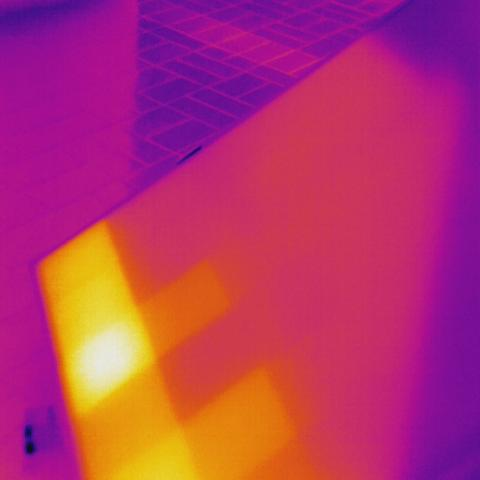fault: (54, 306, 166, 414)
